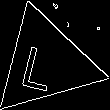L_N: (24, 34, 67, 92)
